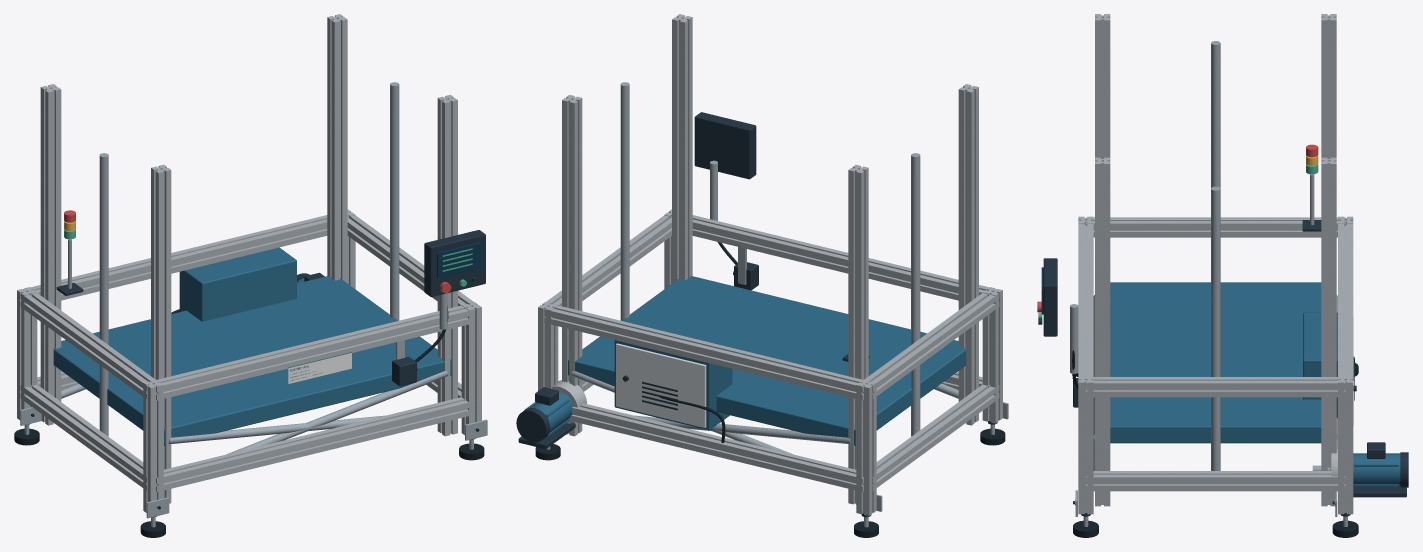
File: pile-lift.glb
3 renders of one model, left to right at view 1: azimuth 30°, elevation 25°; view 2: azimuth 150°, elevation 25°; view 3: azimuth 270°, elevation 25°, orthographic. The views are drawn at different scales.
Visible parts, largest first — view 1: Platform_53, Extrusion_34, Extrusion_35, ElectricalCabinet_40, Extrusion_49, Extrusion_51, Extrusion_50, Extrusion_33, Extrusion_52, Extrusion_37, Extrusion_36, LiftScrew_54 (+11 smaller); view 2: Platform_53, Extrusion_33, Extrusion_32, Extrusion_50, Extrusion_51, Extrusion_52, BackAccessDoor_41, Extrusion_35, Extrusion_49, PanelBack_75, Extrusion_37, Extrusion_36 (+11 smaller); view 3: Platform_53, Extrusion_39, Extrusion_38, Extrusion_52, Extrusion_51, Extrusion_37, LiftScrew_55, Extrusion_35, Extrusion_33, Extrusion_49, Extrusion_50, Extrusion_19 (+7 smaller).
Boxes of the visible parts, x1,y1,x2,y2 form: Platform_53: (53, 276, 451, 445); Extrusion_34: (156, 397, 475, 491); Extrusion_35: (150, 304, 475, 400); ElectricalCabinet_40: (179, 247, 296, 321); Extrusion_49: (40, 84, 61, 425); Extrusion_51: (327, 14, 347, 283); Extrusion_50: (151, 164, 171, 503); Extrusion_33: (23, 215, 348, 300); Extrusion_52: (437, 94, 457, 436); Extrusion_37: (20, 290, 159, 399); Extrusion_36: (20, 384, 147, 490); LiftScrew_54: (99, 153, 108, 436); Platform_53: (568, 276, 966, 445); Extrusion_33: (544, 304, 869, 400); Extrusion_32: (569, 403, 863, 491); Extrusion_50: (958, 84, 978, 425); Extrusion_51: (562, 95, 582, 436); Extrusion_52: (672, 14, 692, 283); BackAccessDoor_41: (616, 343, 706, 427); Extrusion_35: (670, 215, 996, 300); Extrusion_49: (848, 164, 868, 504); PanelBack_75: (694, 112, 756, 179); Extrusion_37: (860, 293, 999, 399); Extrusion_36: (872, 384, 999, 490); Platform_53: (1110, 282, 1321, 443); Extrusion_39: (1086, 377, 1345, 397); Extrusion_38: (1086, 471, 1345, 491); Extrusion_52: (1095, 157, 1110, 506); Extrusion_51: (1321, 157, 1336, 506); Extrusion_37: (1086, 217, 1345, 237); LiftScrew_55: (1211, 186, 1220, 470); Extrusion_35: (1078, 223, 1093, 379); Extrusion_33: (1338, 223, 1353, 379); Extrusion_49: (1321, 14, 1336, 158); Extrusion_50: (1095, 14, 1110, 158); Extrusion_19: (1338, 376, 1353, 514).
Size of the model in its own units: 1.71 by 1.7 by 1.57.
11 materials, 3 textured.
